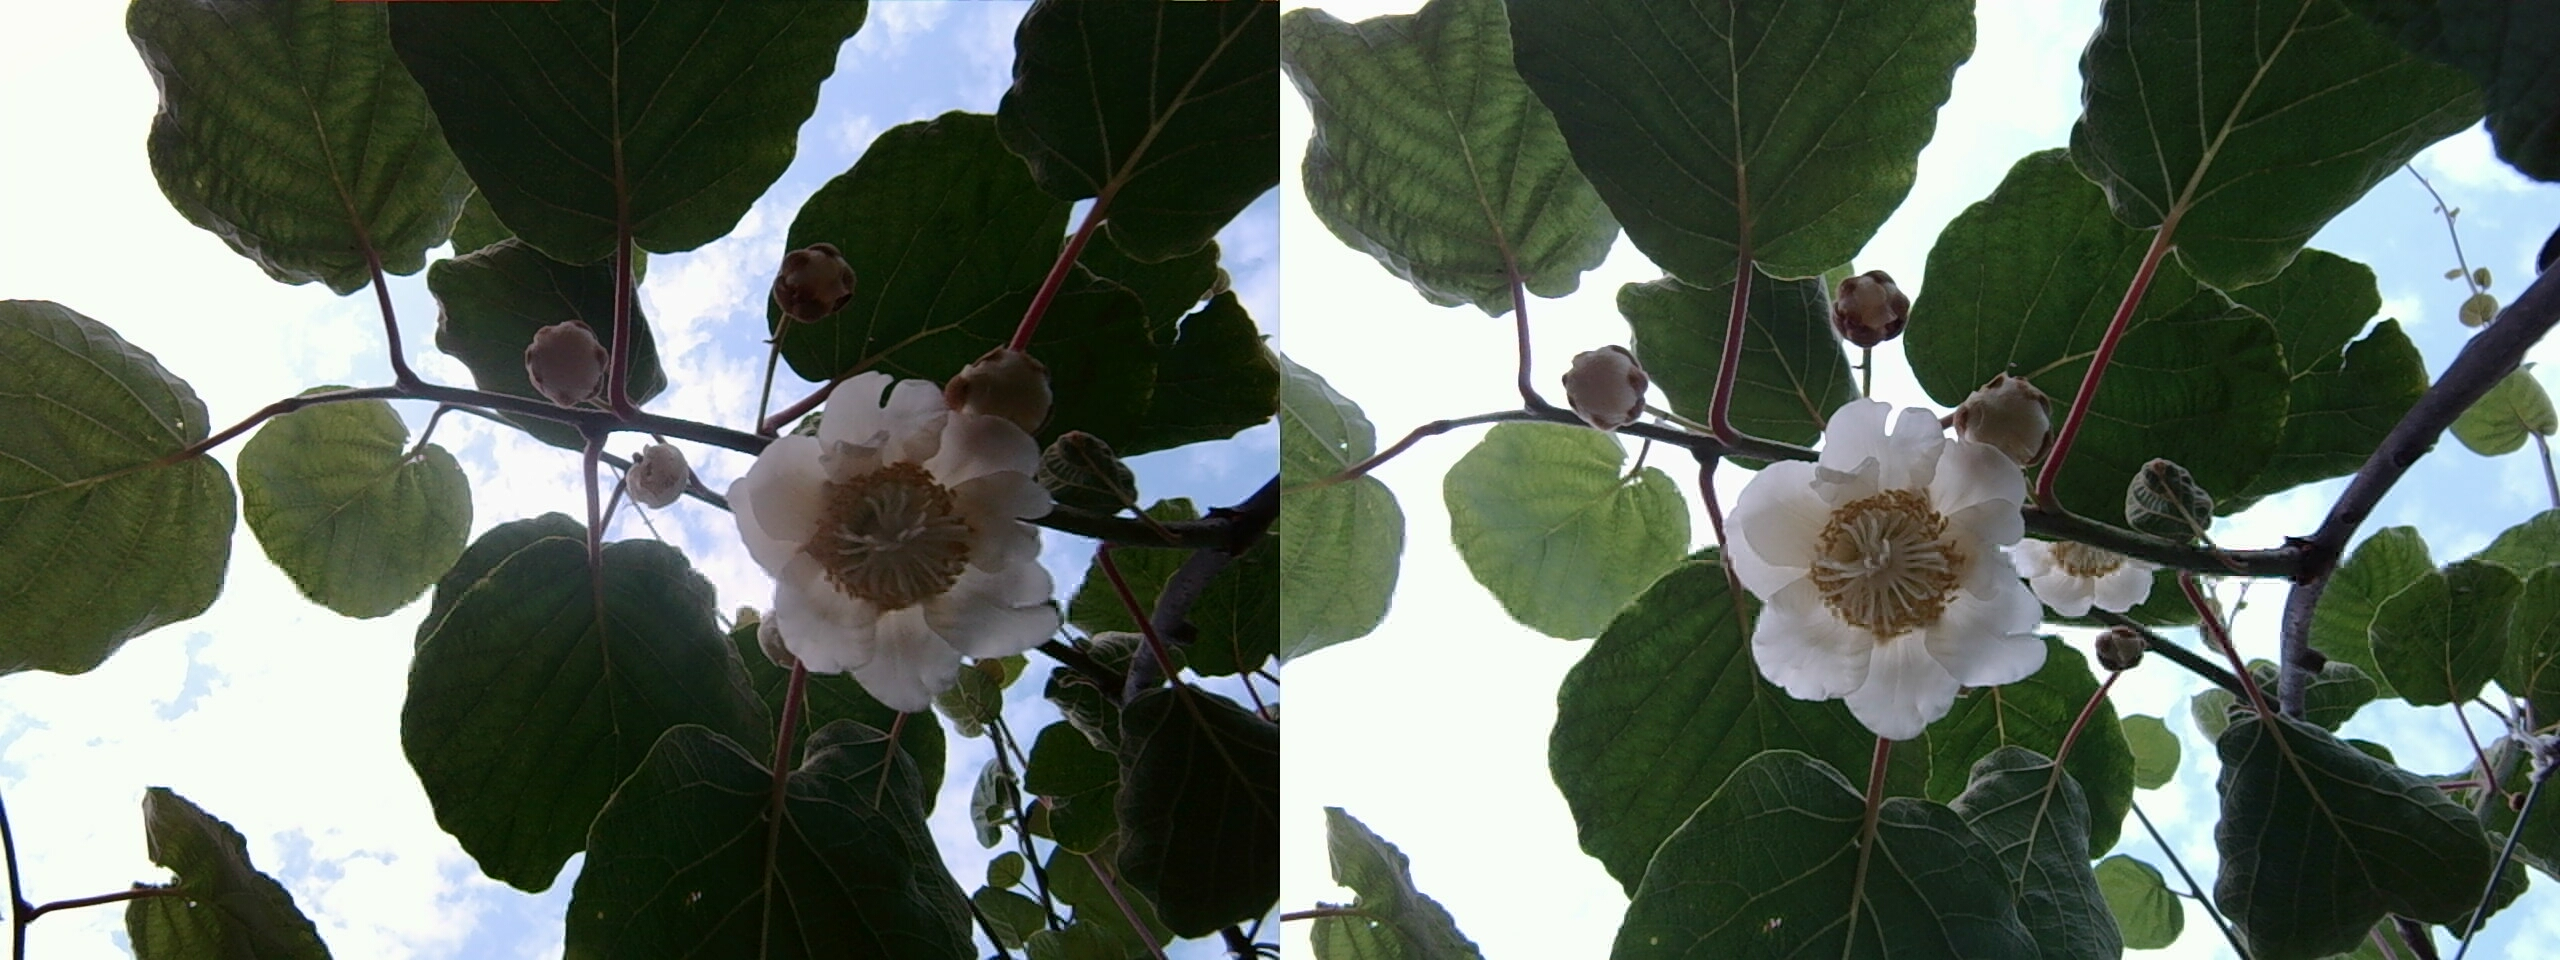flower: (1722, 393, 2036, 717), (735, 380, 1047, 682)
